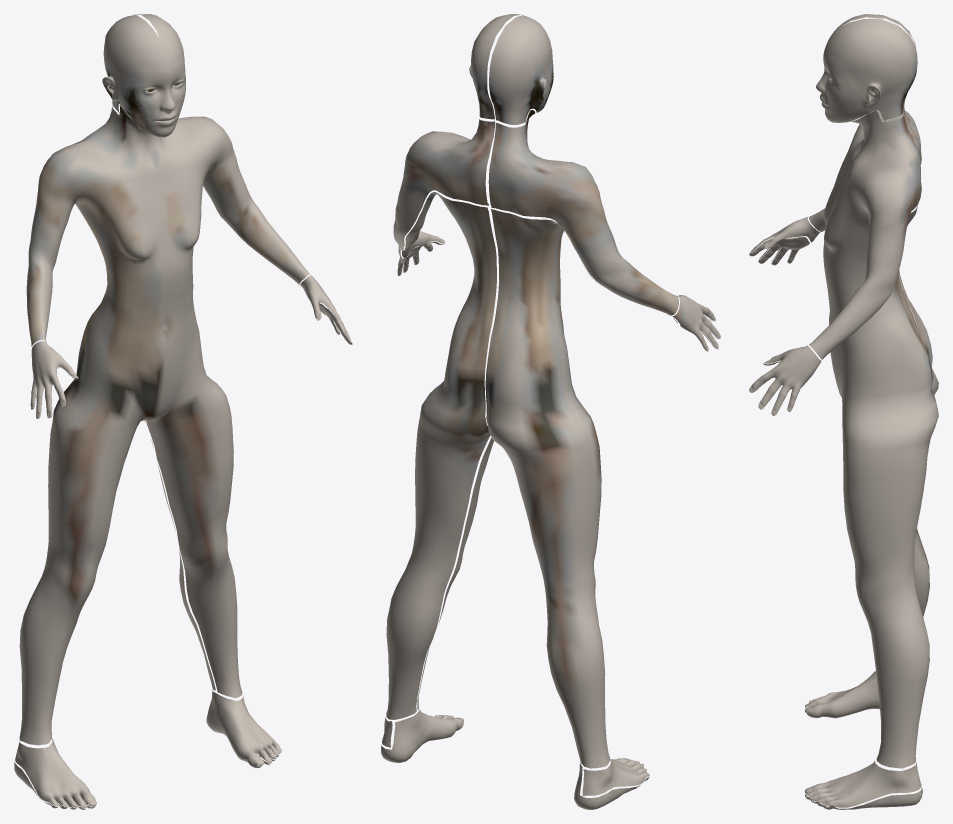
The model's file is body_mesh.glb.
The picture shows the model from 3 angles, left to right: view 1: azimuth 30°, elevation 25°; view 2: azimuth 150°, elevation 25°; view 3: azimuth 270°, elevation 25°; orthographic projection.
Parts seen in each view (by area): view 1: base_male.obj; view 2: base_male.obj; view 3: base_male.obj.
Boxes of the visible parts, x1,y1,x2,y2 form: base_male.obj: [14, 14, 352, 809]; base_male.obj: [381, 14, 720, 809]; base_male.obj: [749, 14, 938, 809].
Bounding box in the file's own units: 0.7451 × 1.7 × 0.3948.
